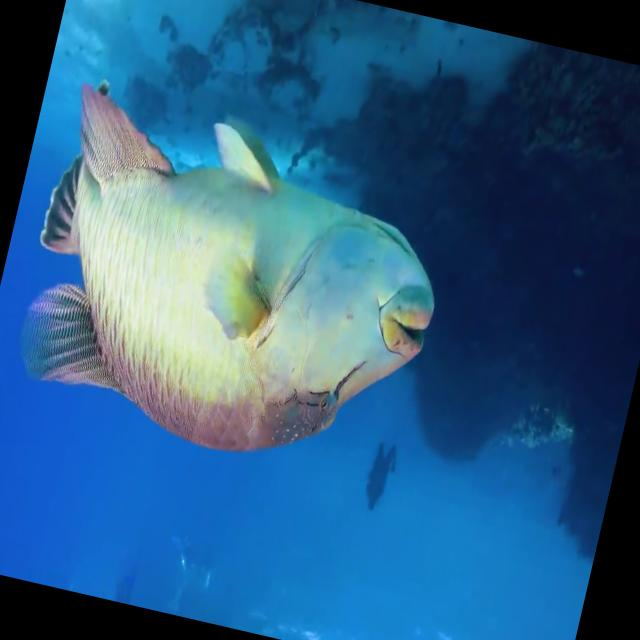fish: (0, 50, 476, 501)
